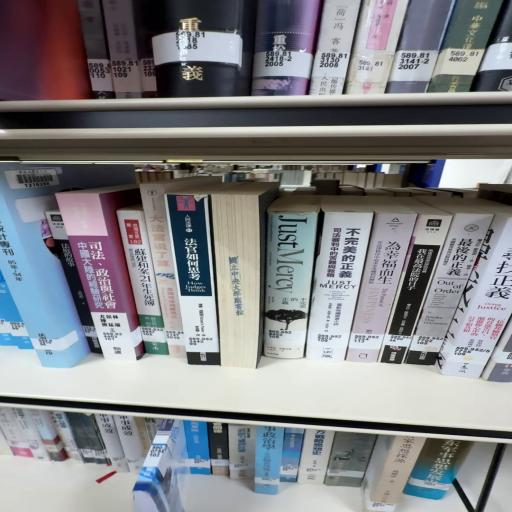backward: (215, 180, 274, 378)
book: (56, 187, 146, 360), (163, 191, 219, 369), (269, 202, 326, 360), (118, 198, 167, 357)
